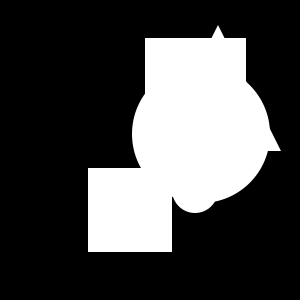circle: (145, 38, 246, 139), (88, 168, 172, 252)
rectangle: (132, 65, 270, 203), (172, 167, 218, 213)
triangle: (155, 25, 281, 151)
